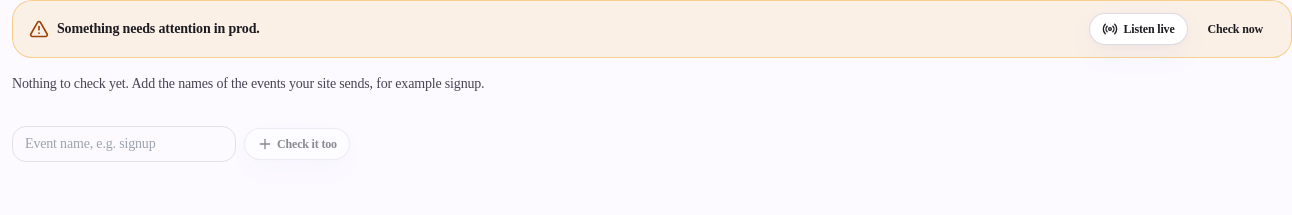
Test: InstallationCheck › says so when the check cannot run
Click the button "Check now" at (1235, 29), box top-left (1196, 13), bottom-right (1275, 45)
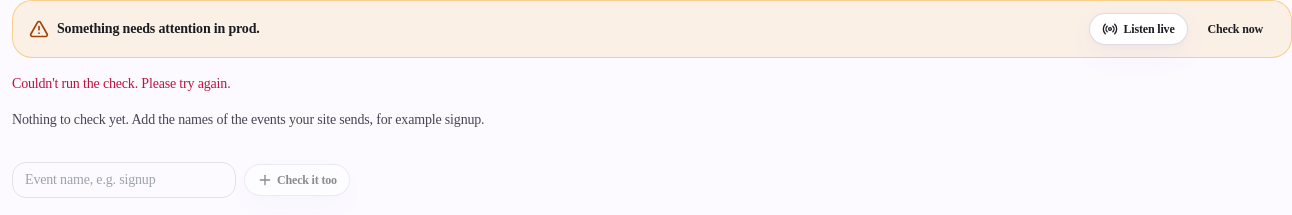
Check: the message "Couldn't run the check. Please try again." is shown, box top-left (12, 76), bottom-right (230, 91)
